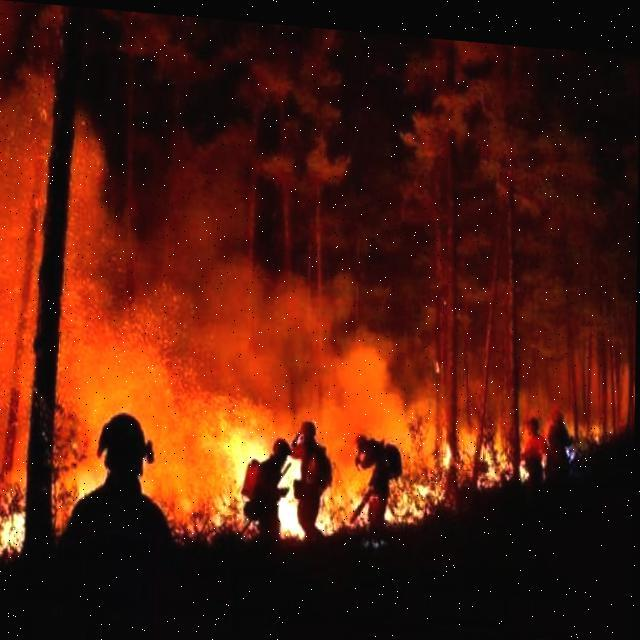Fire: (223, 434, 329, 530), (434, 429, 532, 483), (386, 472, 430, 522), (0, 493, 28, 554)
